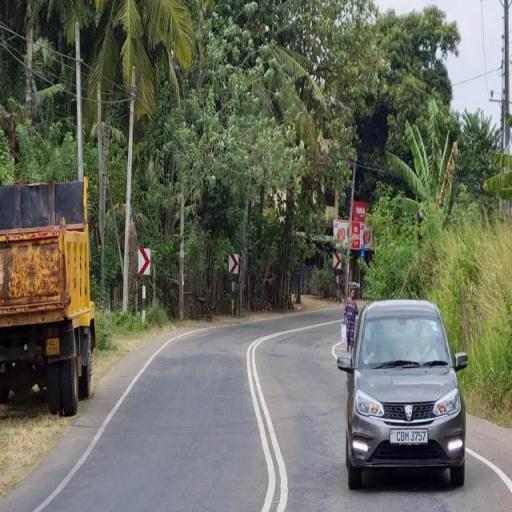double_white_line: (244, 328, 290, 510), (466, 448, 512, 493)
